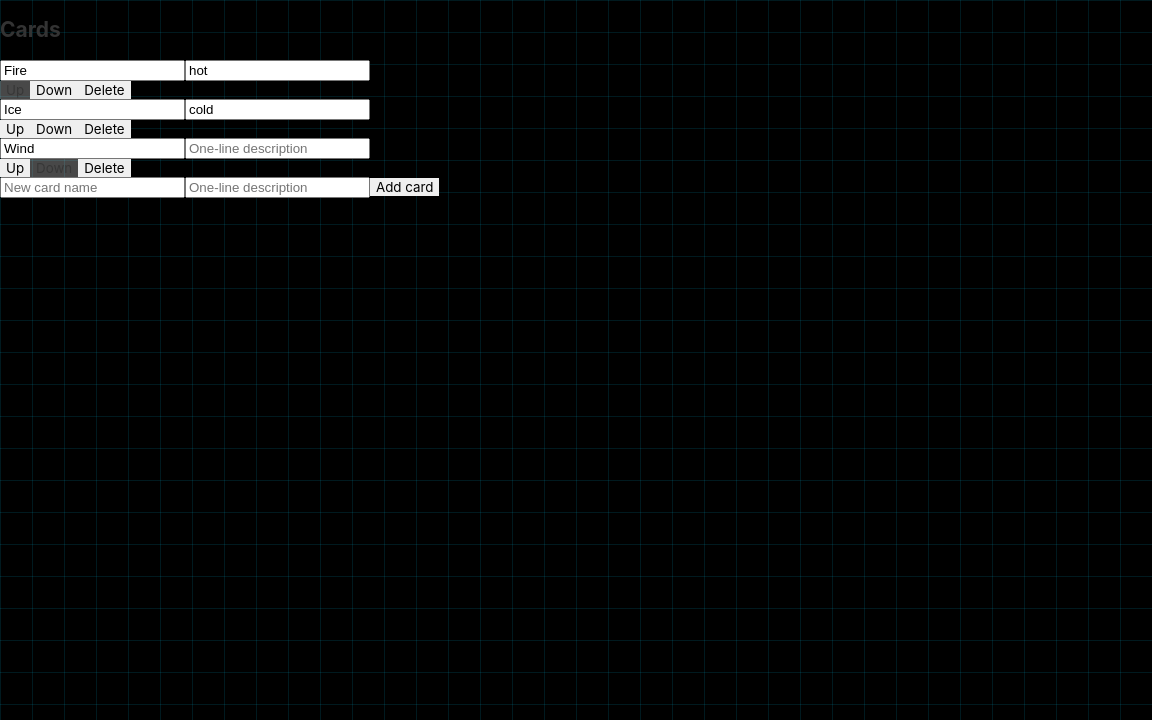
Test case: CardList delete › asks first, counting pairs and non-empty ones
What coordinates should you click on to do the following:
click the 1st button "Delete"
I would click on:
 (104, 90)
Its box is [78, 81, 131, 99].
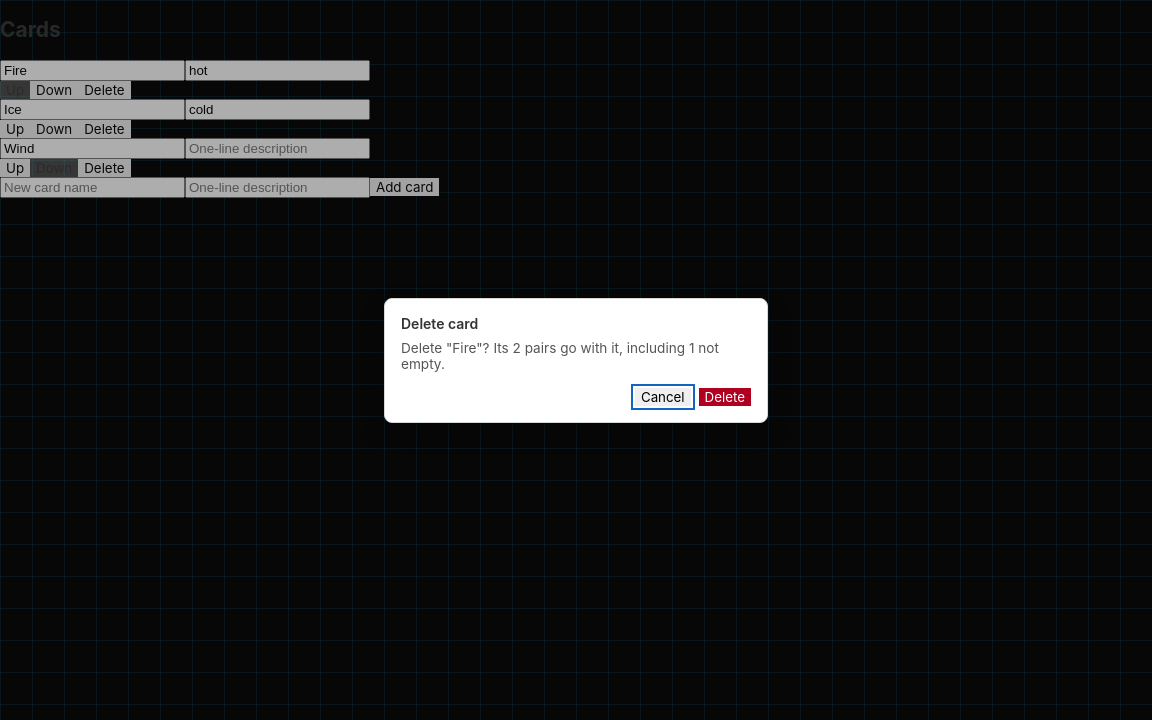
Check: the dialog shows "Delete \"Fire\"? Its 2 pairs go with it, including 1 not empty.", box [401, 340, 719, 372]
